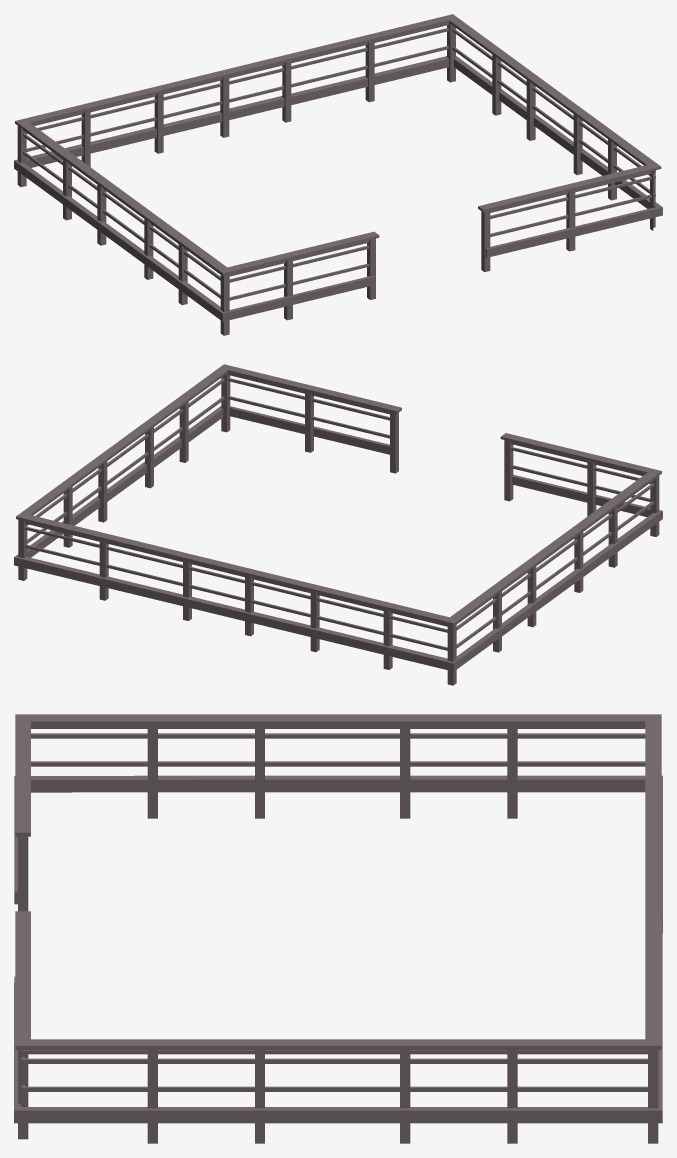
Rendered from Testhouse_Foundation_FenceSmall_VAR2.fbx.
3 views of the same model, one above another, from view 1: azimuth 30°, elevation 25°; view 2: azimuth 150°, elevation 25°; view 3: azimuth 270°, elevation 25° (orthographic). The views are drawn at different scales.
Visible parts, largest first — view 1: Testhouse_Foundation_FenceSmall.002; view 2: Testhouse_Foundation_FenceSmall.002; view 3: Testhouse_Foundation_FenceSmall.002.
Boxes of the visible parts, x1,y1,x2,y2 form: Testhouse_Foundation_FenceSmall.002: (14, 14, 662, 335); Testhouse_Foundation_FenceSmall.002: (14, 364, 662, 685); Testhouse_Foundation_FenceSmall.002: (14, 714, 662, 1143).
Bounding box in the file's own units: 301 × 248 × 41.5.
